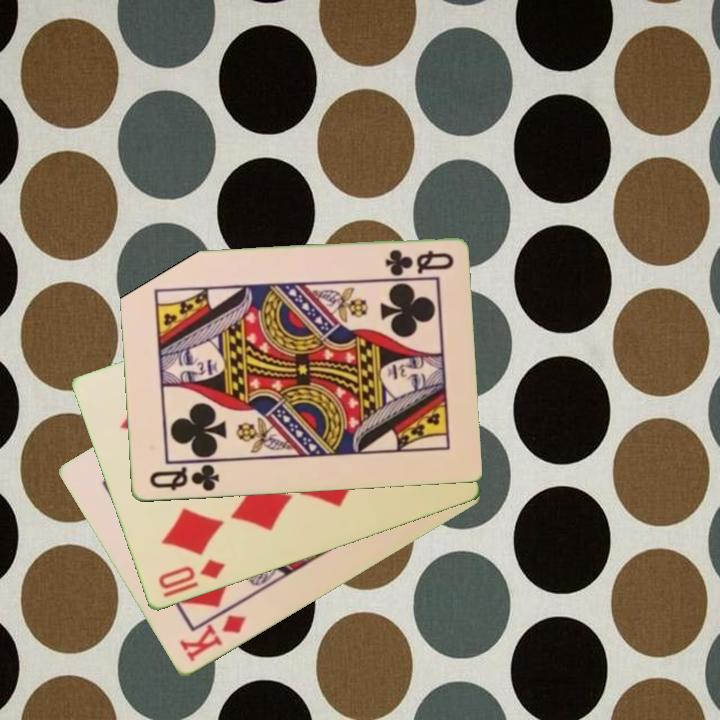10d: (154, 556, 229, 593)
Kd: (176, 611, 249, 666)
Qc: (146, 461, 222, 495), (381, 246, 457, 278)
